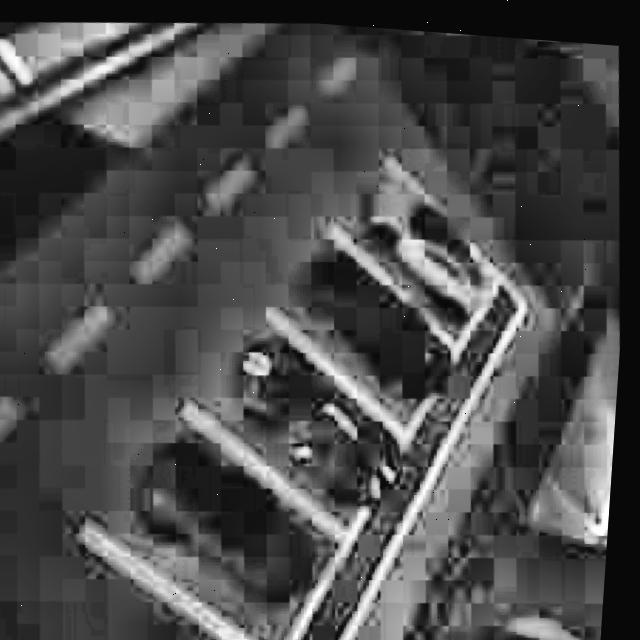car: (218, 309, 431, 516), (123, 416, 342, 612), (287, 227, 472, 408), (347, 154, 516, 328)
